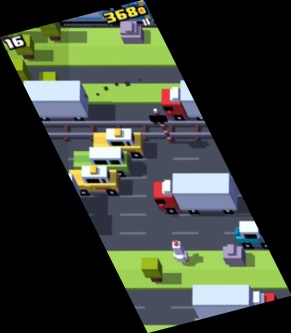duck: (171, 239, 189, 264)
light off: (148, 108, 176, 144)
rail: (37, 119, 214, 142), (17, 8, 158, 28), (73, 146, 133, 177), (68, 164, 121, 197), (93, 127, 145, 159), (235, 220, 279, 250)
rock: (119, 20, 146, 44), (223, 243, 247, 267)
train: (62, 1, 175, 23)
tree: (9, 59, 37, 99), (38, 8, 62, 42), (141, 256, 163, 283), (38, 71, 59, 99), (14, 34, 35, 60)
truck: (152, 173, 240, 214), (192, 284, 283, 323), (161, 80, 247, 121), (7, 80, 89, 120)
